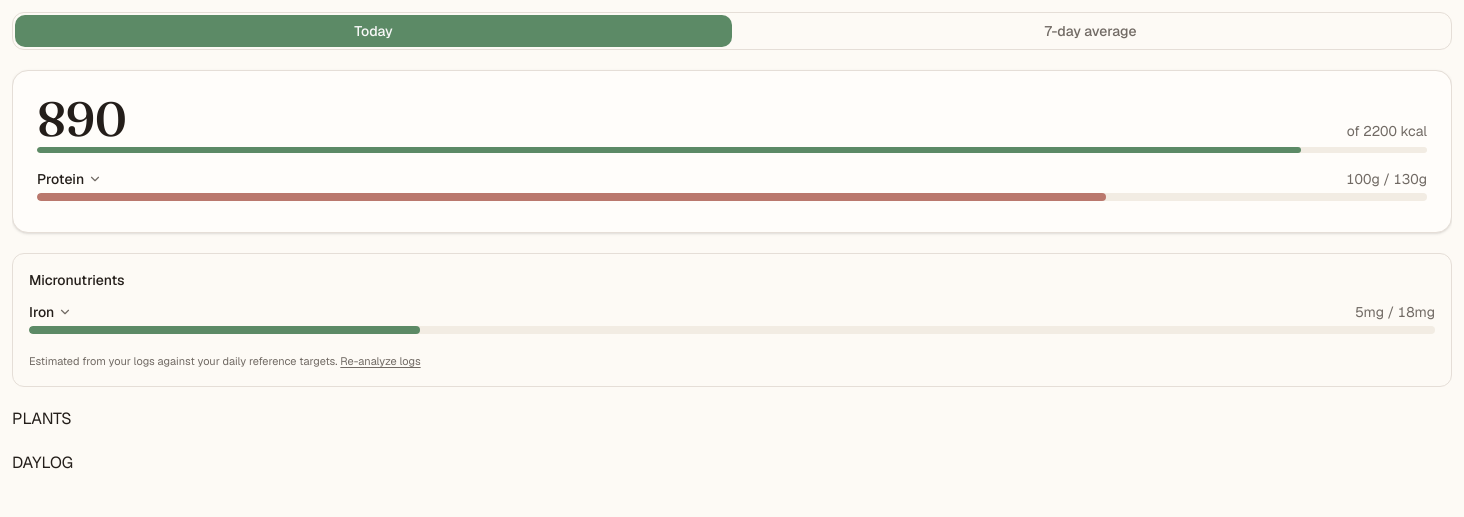
Test case: SummaryPanels — Today ⇄ 7-day toggle › switching to 7-day average swaps the dataset, insight, and hides the day log
The width and height of the screenshot is (1464, 517).
Click the button "7-day average" at (1090, 31), box [732,15,1449,47]
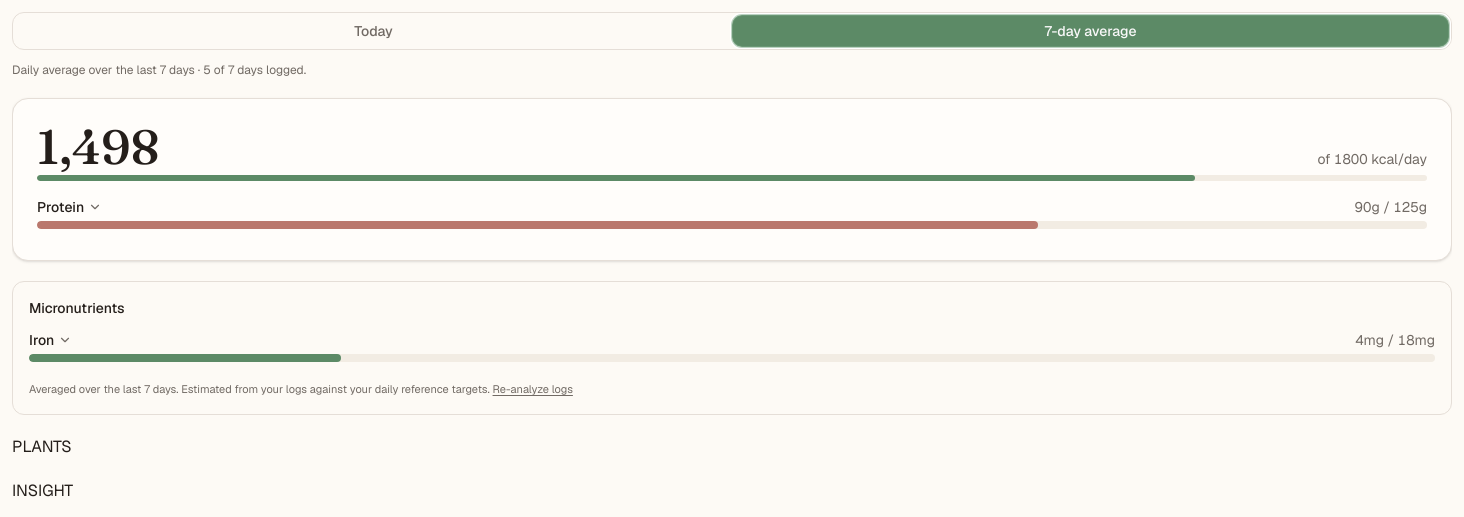
Result: the text "INSIGHT" is shown at [12,480,73,500]
Result: the text "DAYLOG" is gone
Result: the text "Daily average over the last 7 days · 5 of 7 days logged." is shown at [12,62,306,78]
